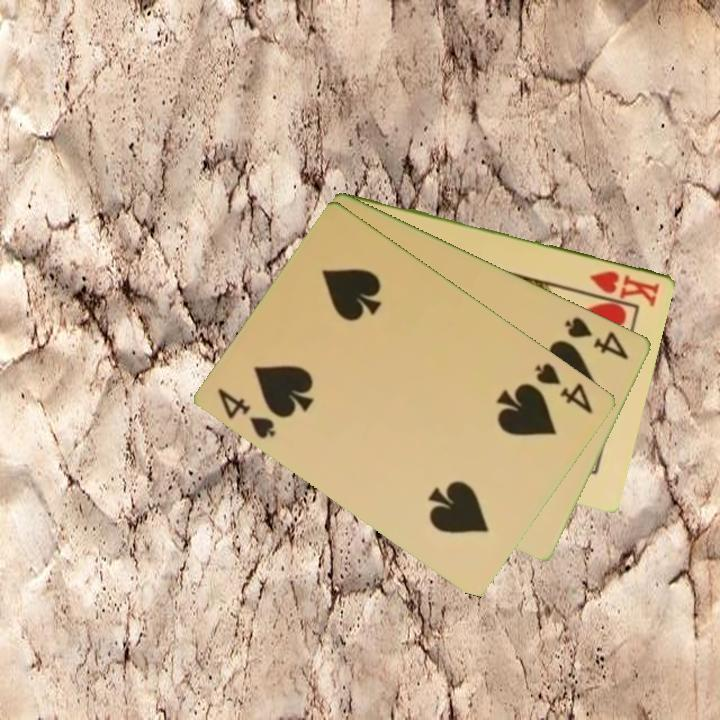4s: (531, 359, 597, 417), (215, 384, 279, 442), (562, 313, 632, 363)
Kh: (587, 266, 663, 308)
